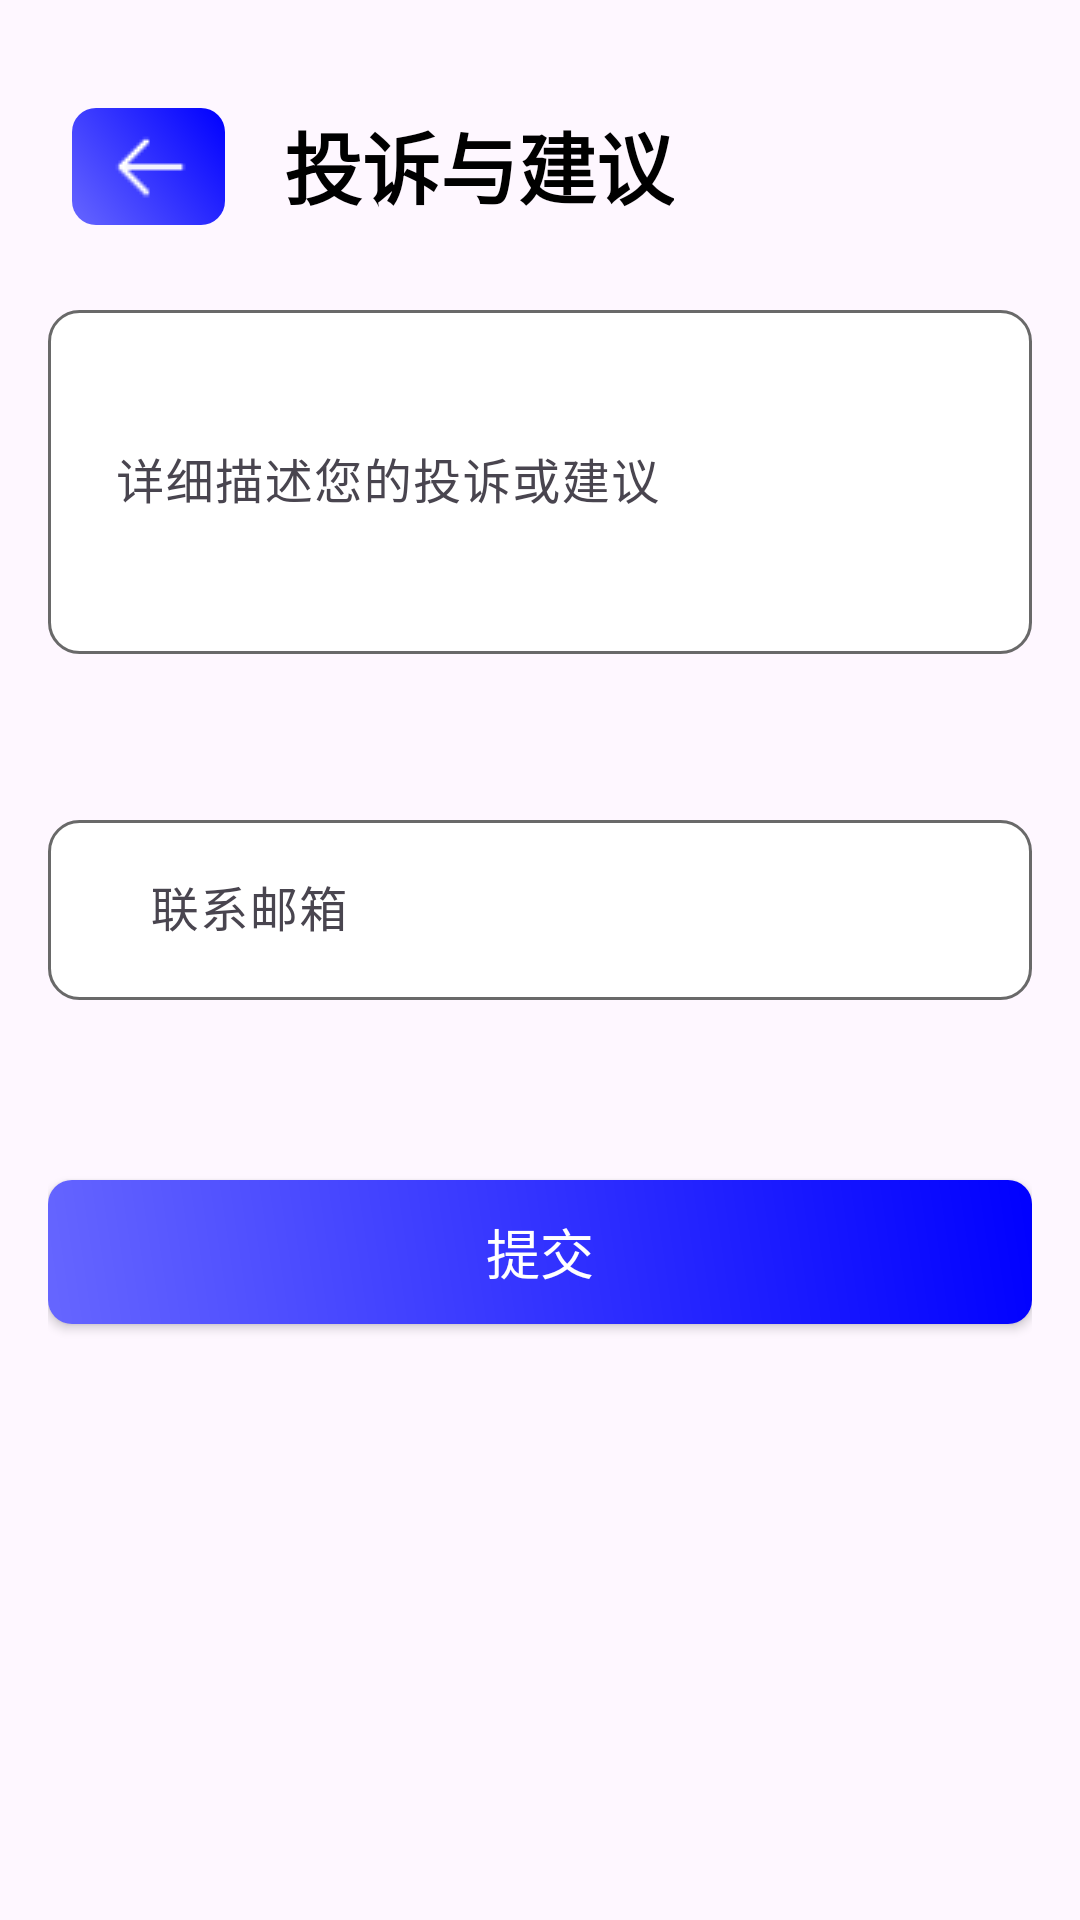

Icon bounding boxes for this 1080px×1920px phone screenshot, format (x1, y1, x2, y2):
arrow back: (72, 108, 225, 225)
